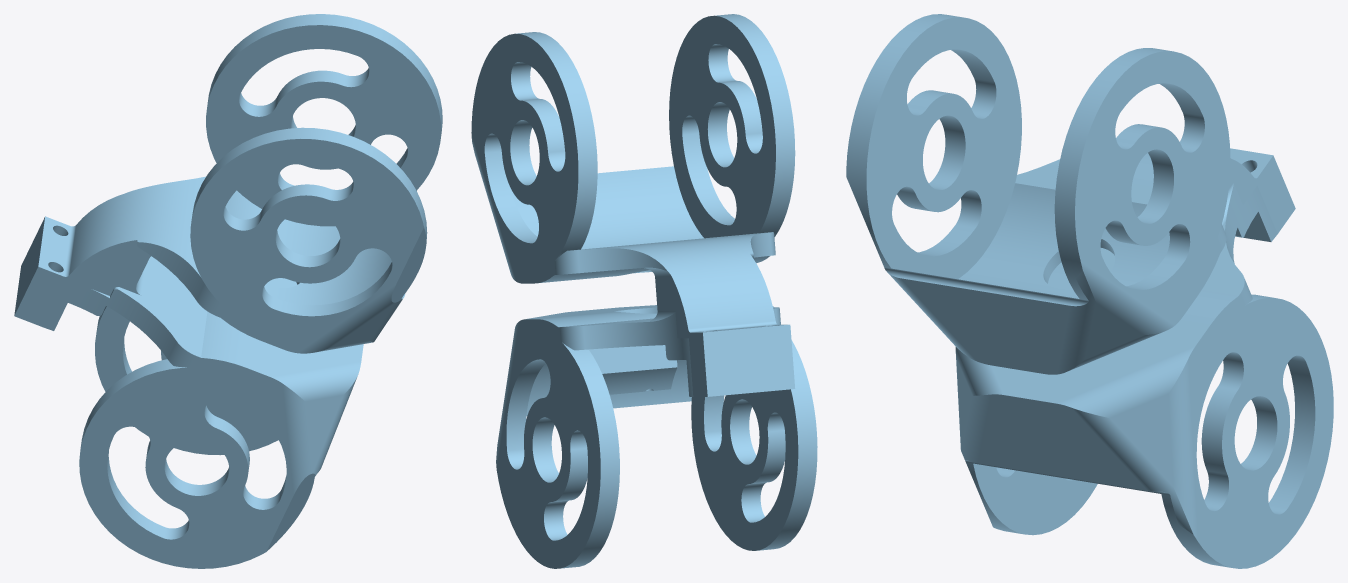
The picture shows the model from 3 angles, left to right: view 1: azimuth 30°, elevation 25°; view 2: azimuth 150°, elevation 25°; view 3: azimuth 270°, elevation 25°; orthographic projection. The views are drawn at different scales.
Parts seen in each view (by area): view 1: mesh3117, mesh3106, mesh3140, mesh3078, mesh3095, mesh3077, mesh3129, mesh3062, mesh3066, mesh3036, mesh3096, mesh3094 (+19 smaller); view 2: mesh3139, mesh3128, mesh3118, mesh3107, mesh3078, mesh3095, mesh3075, mesh3096, mesh3094, mesh3042, mesh3045, mesh3059 (+29 smaller); view 3: mesh3118, mesh3128, mesh3139, mesh3037, mesh3092, mesh3095, mesh3036, mesh3107, mesh3096, mesh3094, mesh3038, mesh3041 (+30 smaller).
Part boxes in pixels (box(x1,y1,x2,y2)): mesh3117: box(190, 139, 423, 352); mesh3106: box(79, 356, 293, 568); mesh3140: box(206, 25, 441, 226); mesh3078: box(69, 176, 205, 274); mesh3095: box(225, 190, 391, 305); mesh3077: box(14, 240, 150, 327); mesh3129: box(95, 306, 278, 455); mesh3062: box(119, 256, 207, 357); mesh3066: box(44, 282, 176, 359); mesh3036: box(246, 278, 363, 377); mesh3096: box(207, 14, 442, 140); mesh3094: box(191, 127, 427, 245); mesh3139: box(471, 33, 578, 283); mesh3128: box(497, 319, 600, 568); mesh3118: box(669, 15, 775, 238); mesh3107: box(691, 389, 798, 550); mesh3078: box(605, 234, 775, 328); mesh3095: box(510, 166, 703, 249); mesh3075: box(703, 324, 795, 396); mesh3096: box(516, 32, 597, 260); mesh3094: box(715, 14, 795, 236); mesh3042: box(561, 343, 619, 568); mesh3045: box(756, 340, 817, 550); mesh3059: box(583, 312, 693, 396); mesh3118: box(866, 17, 1021, 279); mesh3128: box(1188, 294, 1333, 568); mesh3139: box(1075, 51, 1230, 325); mesh3037: box(978, 394, 1146, 490); mesh3092: box(901, 278, 1069, 374); mesh3095: box(958, 183, 1169, 298); mesh3036: box(991, 320, 1209, 403); mesh3107: box(973, 463, 1097, 535); mesh3096: box(1054, 48, 1171, 300); mesh3094: box(846, 14, 965, 268); mesh3038: box(1057, 346, 1194, 417); mesh3041: box(1168, 359, 1197, 540).
Bounding box in the file's own units: 0.0732 × 0.0902 × 0.0713.
